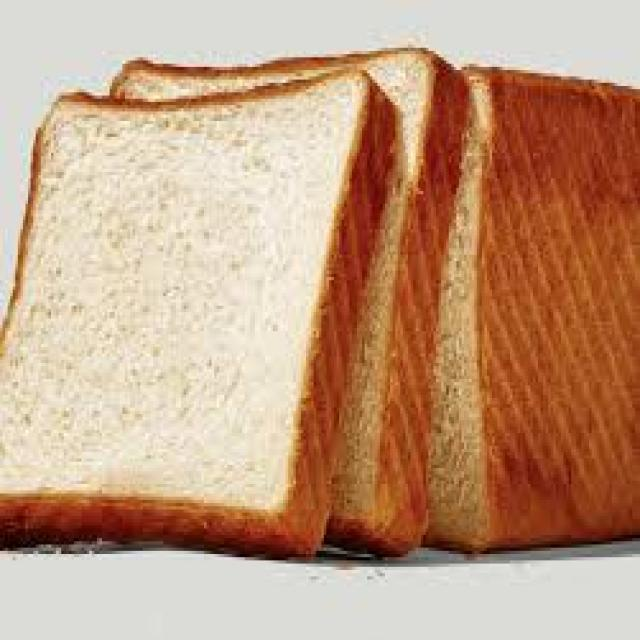food_waste: (0, 48, 637, 554)
